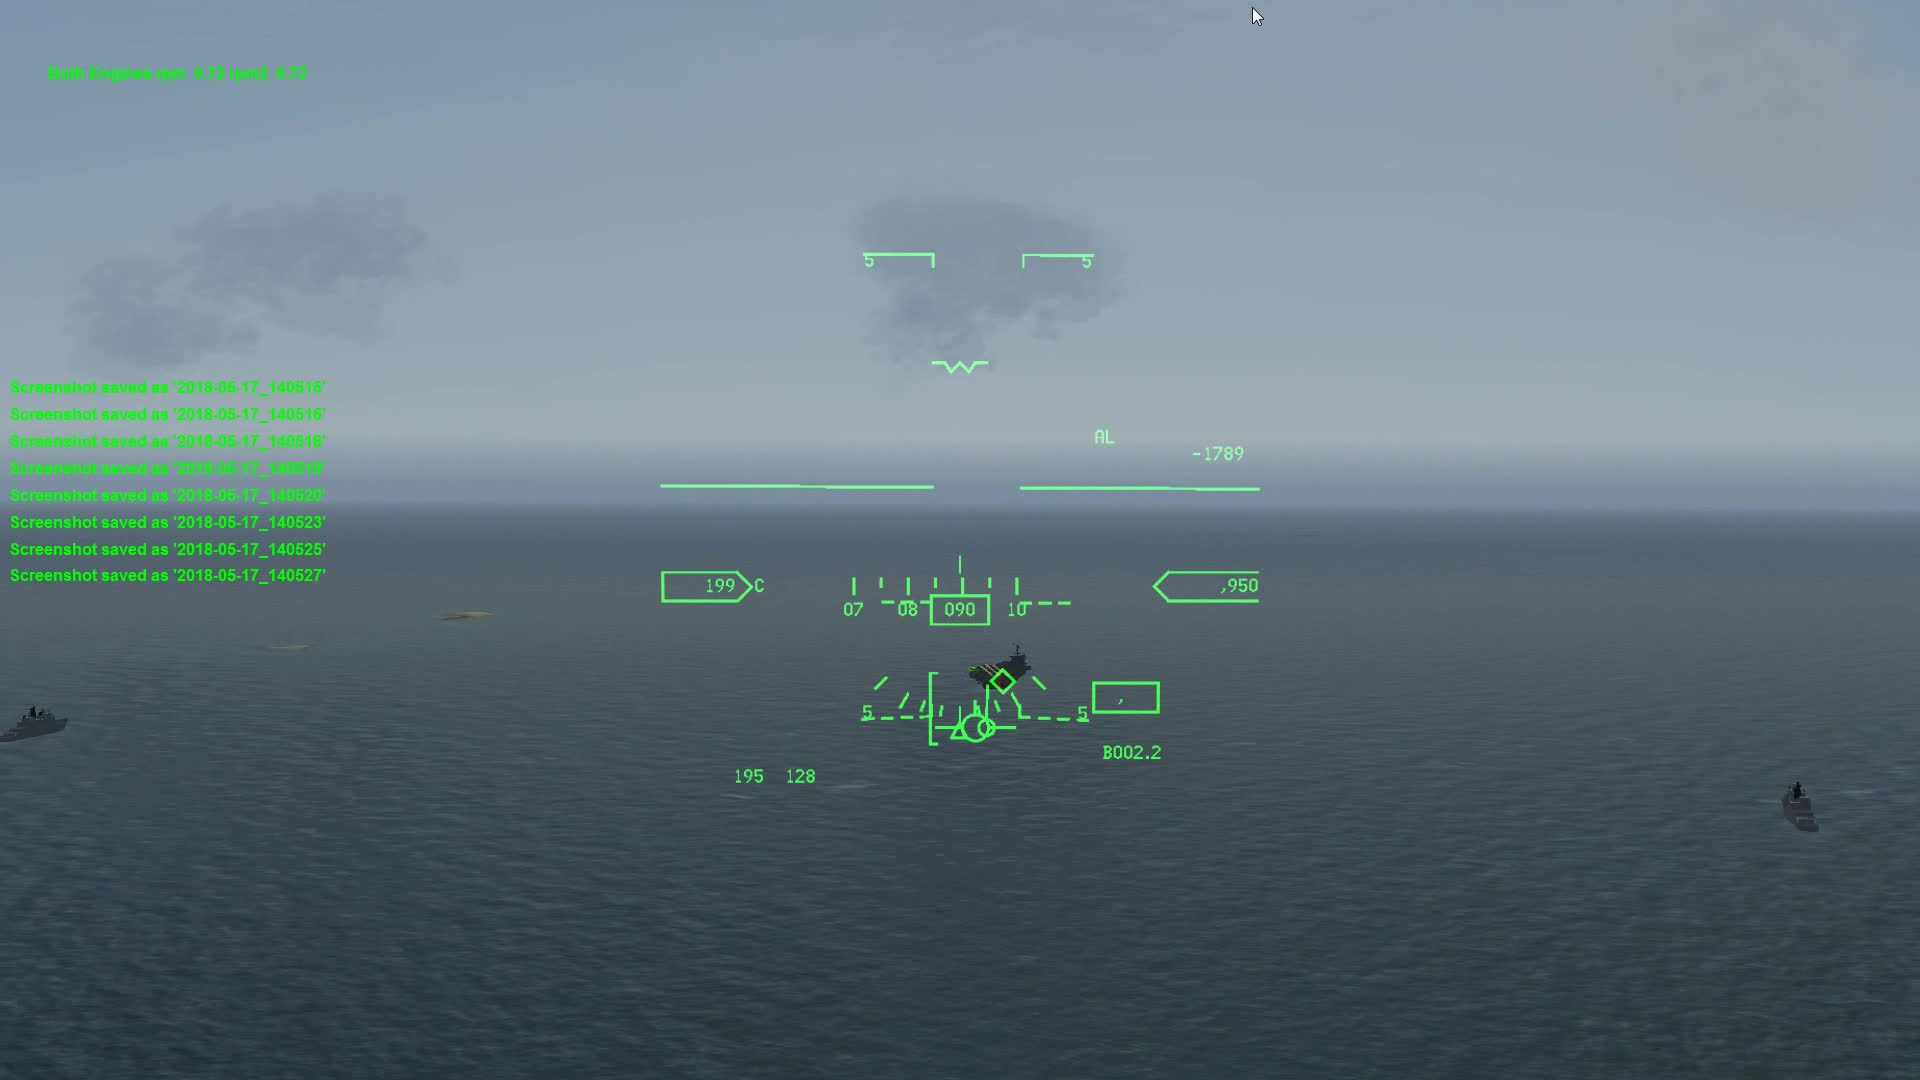speed vector: (938, 705, 1023, 748)
